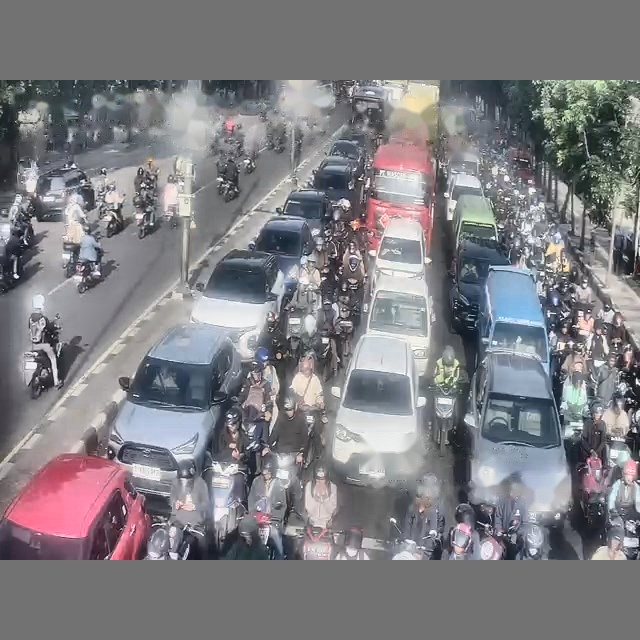Mobil: (107, 324, 243, 497), (464, 350, 570, 523), (0, 453, 150, 559), (330, 334, 425, 485), (191, 249, 284, 362), (366, 275, 434, 376), (448, 237, 509, 330), (249, 215, 312, 294), (369, 217, 429, 293), (309, 158, 363, 216), (34, 168, 94, 220), (276, 189, 331, 232), (444, 173, 483, 221), (326, 139, 365, 175), (316, 155, 357, 177), (340, 127, 371, 155)
Motor: (203, 460, 246, 549), (145, 522, 205, 559), (578, 456, 607, 530), (431, 384, 457, 454), (23, 345, 53, 398), (73, 261, 101, 293), (100, 203, 123, 237), (134, 205, 153, 238), (62, 241, 79, 277), (216, 176, 238, 201), (163, 205, 177, 227), (242, 154, 255, 174)
